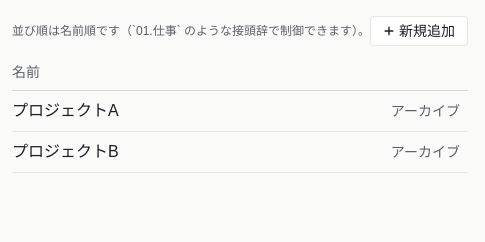
Test: ProjectsTable（画面定義書03 §3.3: 名前とアーカイブだけの単純なCRUD） › 新規追加 › 「新規追加」を押すとエラー表示を消す
Click the button "プロジェクトA" at (65, 111), box [12, 99, 119, 123]
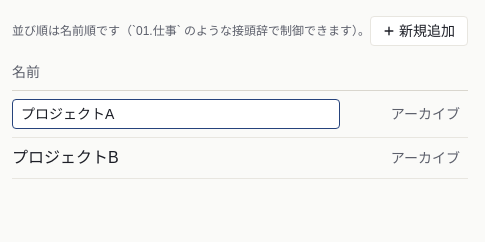
Clear the field showing "プロジェクトA" at (176, 114), box [12, 99, 340, 129]
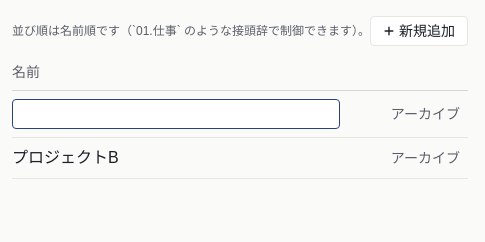
Leave the field showing "プロジェクトA", box [12, 99, 340, 129]
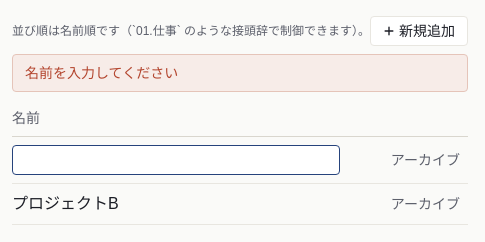
Now the text "名前を入力してください" is shown, box [12, 54, 468, 92]
Click the button "新規追加" at (419, 31), box [370, 16, 468, 46]
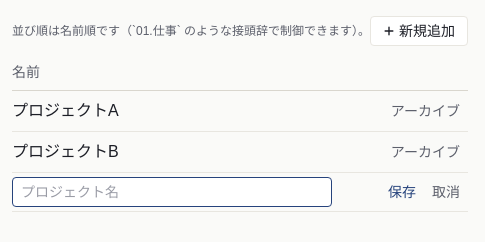
Now the text "名前を入力してください" is gone
